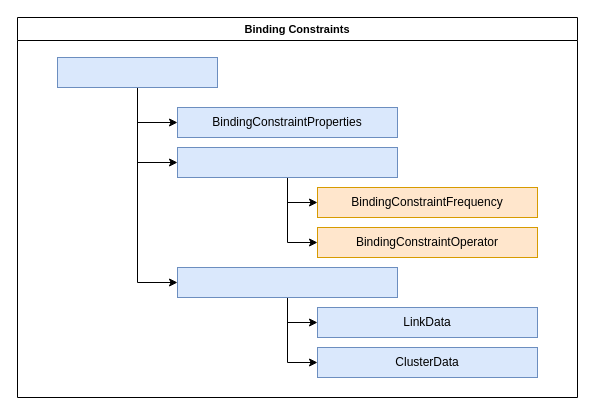
Image size: 595x415. Some labels were removed from this diagram. The shapes that lost their labels are listed below. From the top down, each one's centre as x and y in pixels, then its label:
At pixel 137 72: "BindingConstraint".
At pixel 287 162: "BindingConstraintPropertiesUpdate".
At pixel 287 282: "ConstraintTerm".
